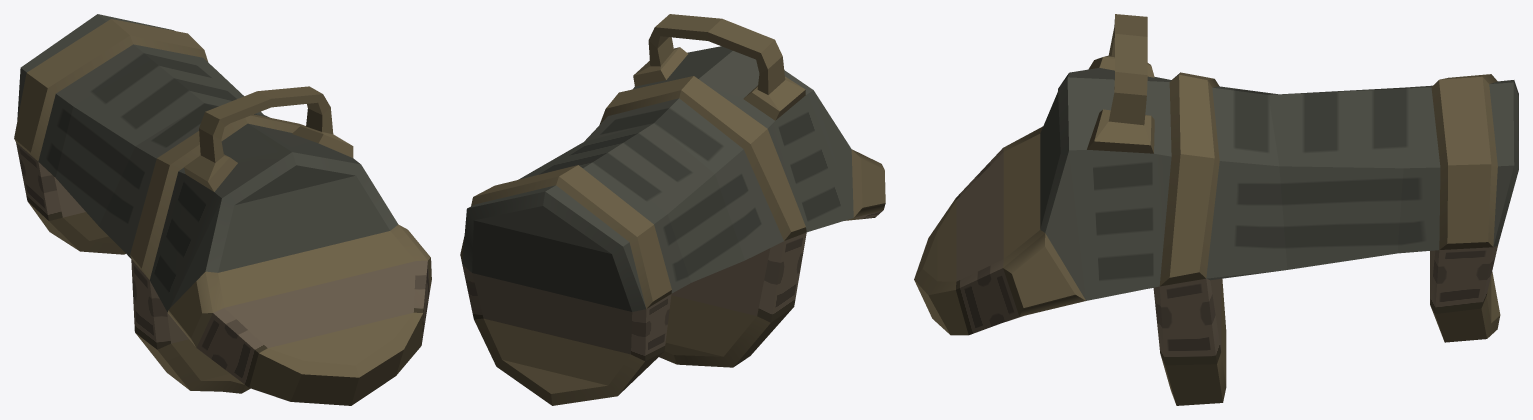
The model's file is SK_Chr_Attach_Vest_Military_Medium_01.fbx.
3 renders of one model, left to right at view 1: azimuth 30°, elevation 25°; view 2: azimuth 150°, elevation 25°; view 3: azimuth 270°, elevation 25°, orthographic. The views are drawn at different scales.
Parts seen in each view (by area): view 1: SK_Chr_Attach_Vest_Military_Medium_01; view 2: SK_Chr_Attach_Vest_Military_Medium_01; view 3: SK_Chr_Attach_Vest_Military_Medium_01.
Boxes of the visible parts, box(x1,y1,x2,y2) form: SK_Chr_Attach_Vest_Military_Medium_01: box(14, 14, 431, 405); SK_Chr_Attach_Vest_Military_Medium_01: box(460, 14, 885, 405); SK_Chr_Attach_Vest_Military_Medium_01: box(914, 14, 1518, 405).
Bounding box in the file's own units: 34.57 × 43.43 × 65.62.
